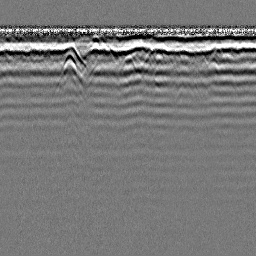cavity: (120, 54, 137, 72)
